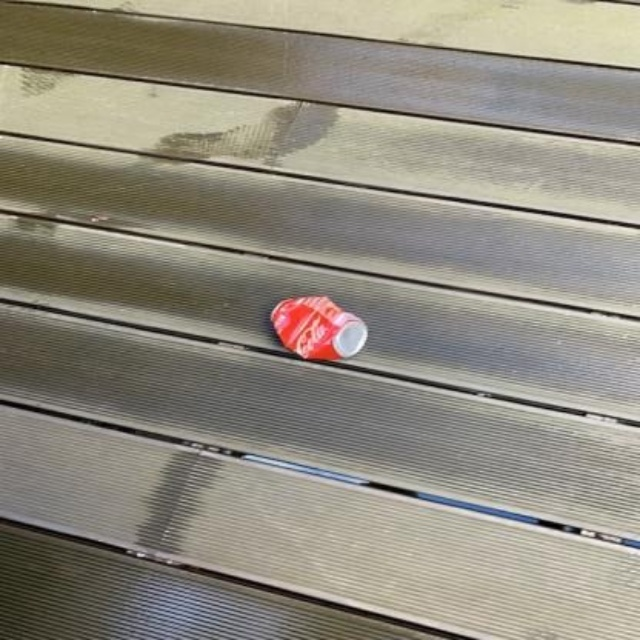trash: (271, 295, 366, 358)
